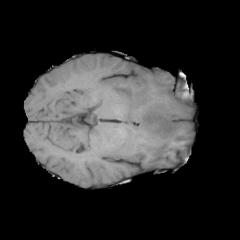glioma: (111, 75, 190, 148)
